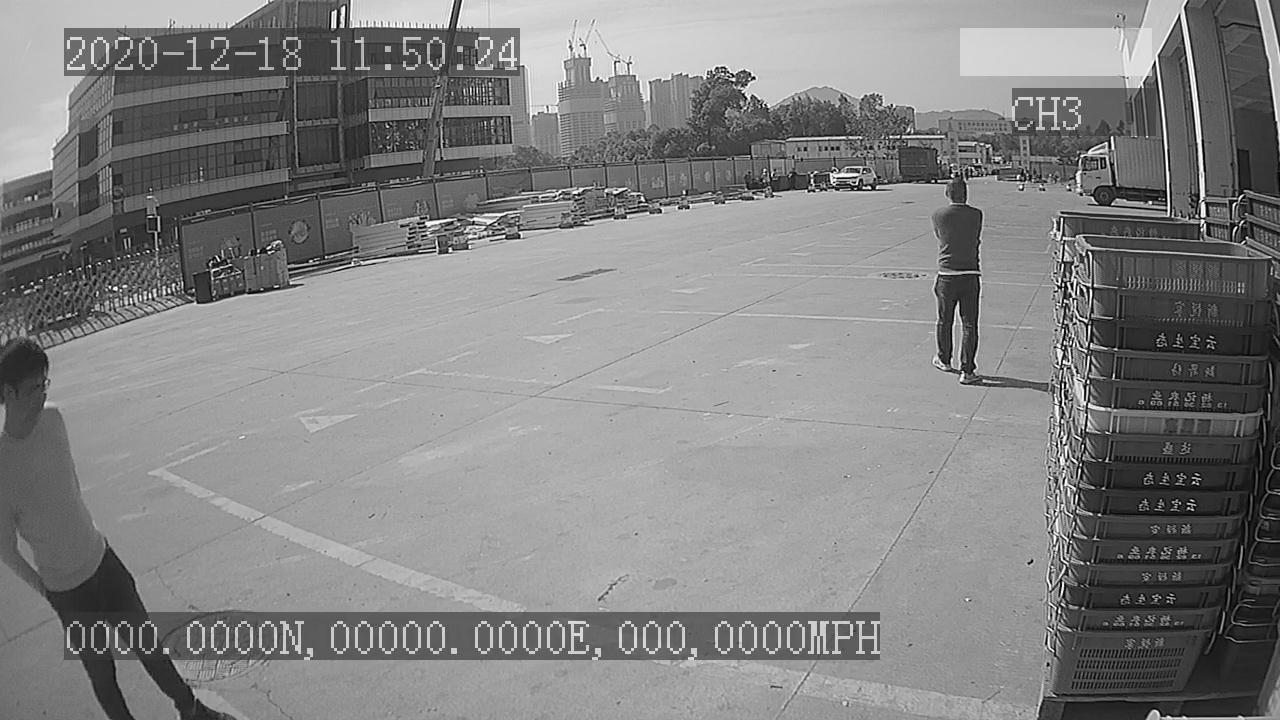person: (926, 174, 993, 390)
